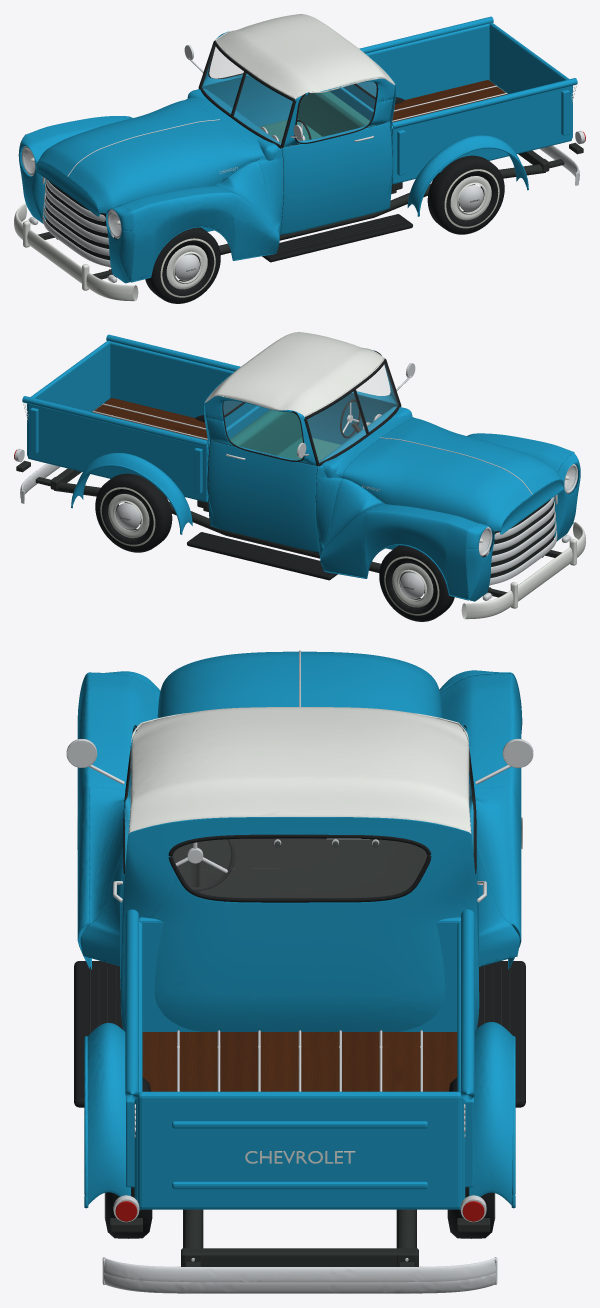
The model's file is pickup_3100-lod0.glb.
3 renders of one model, top to bottom at view 1: azimuth 30°, elevation 25°; view 2: azimuth 150°, elevation 25°; view 3: azimuth 270°, elevation 25°, orthographic. The views are drawn at different scales.
Visible parts, largest first — view 1: pickup_3100_static_C3100_Paint_Turquoise, pickup_3100_hoodHingeAuthored_<bpy id property array [3]>_C3, pickup_3100_doorSide_right_C3100_Paint_Turquoise, pickup_3100_static_C3100_RoofIvory, pickup_3100_static_C3100_Chrome, pickup_3100_static_C3100_Glass, pickup_3100_static_C3100_Rubber, pickup_3100_wheelId_rearRight_C3100_Rubber, pickup_3100_static_C3100_UnderbodyBlackened, pickup_3100_static_C3100_Upholstery_Turquoise, pickup_3100_wheelId_frontRight_C3100_Rubber, pickup_3100_doorSide_left_C3100_Paint_Turquoise (+10 smaller); view 2: pickup_3100_static_C3100_Paint_Turquoise, pickup_3100_hoodHingeAuthored_<bpy id property array [3]>_C3, pickup_3100_doorSide_left_C3100_Paint_Turquoise, pickup_3100_static_C3100_RoofIvory, pickup_3100_static_C3100_Chrome, pickup_3100_static_C3100_Glass, pickup_3100_static_C3100_Rubber, pickup_3100_wheelId_rearLeft_C3100_Rubber, pickup_3100_static_C3100_UnderbodyBlackened, pickup_3100_static_C3100_Upholstery_Turquoise, pickup_3100_wheelId_frontLeft_C3100_Rubber, pickup_3100_static_C3100_ReferenceIvoryEnamel (+10 smaller); view 3: pickup_3100_static_C3100_Paint_Turquoise, pickup_3100_static_C3100_RoofIvory, pickup_3100_static_C3100_UnderbodyBlackened, pickup_3100_static_C3100_BedOak, pickup_3100_static_C3100_Chrome, pickup_3100_hoodHingeAuthored_<bpy id property array [3]>_C3, pickup_3100_static_C3100_Glass, pickup_3100_static_C3100_Rubber, pickup_3100_wheelId_rearRight_C3100_Rubber, pickup_3100_wheelId_rearLeft_C3100_Rubber.
Part boxes in pixels (x1,y1,x2,y2): pickup_3100_static_C3100_Paint_Turquoise: (18,16,577,283); pickup_3100_hoodHingeAuthored_<bpy id property array [3]>_C3: (36,100,257,216); pickup_3100_doorSide_right_C3100_Paint_Turquoise: (280,121,392,234); pickup_3100_static_C3100_RoofIvory: (30,14,395,224); pickup_3100_static_C3100_Chrome: (22,45,585,282); pickup_3100_static_C3100_Glass: (201,46,376,144); pickup_3100_static_C3100_Rubber: (198,32,412,262); pickup_3100_wheelId_rearRight_C3100_Rubber: (427,155,504,234); pickup_3100_static_C3100_UnderbodyBlackened: (38,82,583,279); pickup_3100_static_C3100_Upholstery_Turquoise: (259,91,375,146); pickup_3100_wheelId_frontRight_C3100_Rubber: (145,227,220,303); pickup_3100_doorSide_left_C3100_Paint_Turquoise: (202,76,292,126); pickup_3100_static_C3100_Paint_Turquoise: (22,334,580,601); pickup_3100_hoodHingeAuthored_<bpy id property array [3]>_C3: (342,418,563,534); pickup_3100_doorSide_left_C3100_Paint_Turquoise: (208,440,319,552); pickup_3100_static_C3100_RoofIvory: (204,332,569,542); pickup_3100_static_C3100_Chrome: (14,363,577,600); pickup_3100_static_C3100_Glass: (223,364,398,462); pickup_3100_static_C3100_Rubber: (187,350,401,580); pickup_3100_wheelId_rearLeft_C3100_Rubber: (95,473,172,552); pickup_3100_static_C3100_UnderbodyBlackened: (16,400,561,597); pickup_3100_static_C3100_Upholstery_Turquoise: (229,409,340,461); pickup_3100_wheelId_frontLeft_C3100_Rubber: (379,545,454,621); pickup_3100_static_C3100_ReferenceIvoryEnamel: (461,522,585,619); pickup_3100_static_C3100_Paint_Turquoise: (77,670,522,1209); pickup_3100_static_C3100_RoofIvory: (128,707,471,1163); pickup_3100_static_C3100_UnderbodyBlackened: (89,838,510,1266); pickup_3100_static_C3100_BedOak: (142,1032,457,1091); pickup_3100_static_C3100_Chrome: (66,738,533,1293); pickup_3100_hoodHingeAuthored_<bpy id property array [3]>_C3: (157,651,442,717); pickup_3100_static_C3100_Glass: (69,743,530,897); pickup_3100_static_C3100_Rubber: (74,725,525,1107); pickup_3100_wheelId_rearRight_C3100_Rubber: (105,1077,152,1238); pickup_3100_wheelId_rearLeft_C3100_Rubber: (447,1077,494,1238).
Bounding box in the file's own units: 2.02 × 0.7488 × 0.8392.
Materials: 15 (1 with a texture image).
